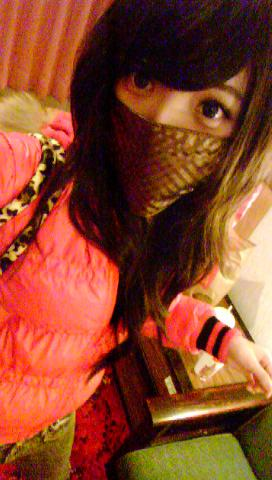OK: (103, 63, 246, 206)
